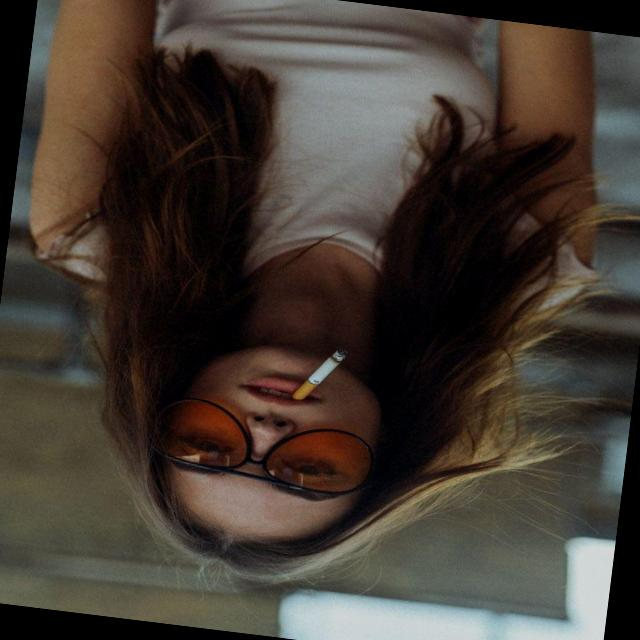cigarette: (276, 333, 370, 426)
